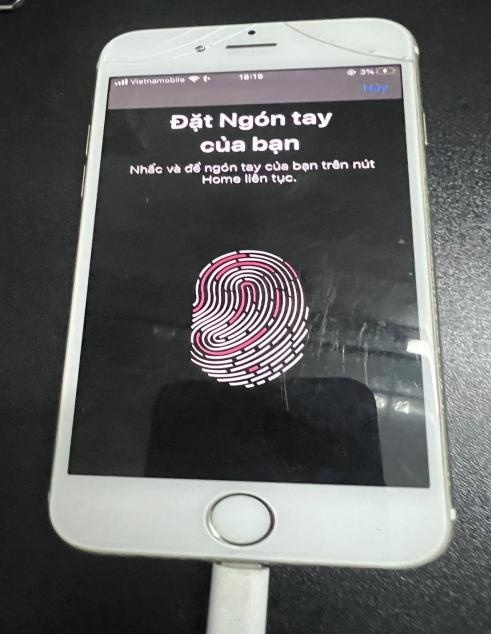physical_damage: (277, 18, 436, 81), (166, 18, 256, 61), (96, 53, 180, 97)
scratch: (254, 252, 418, 411)
